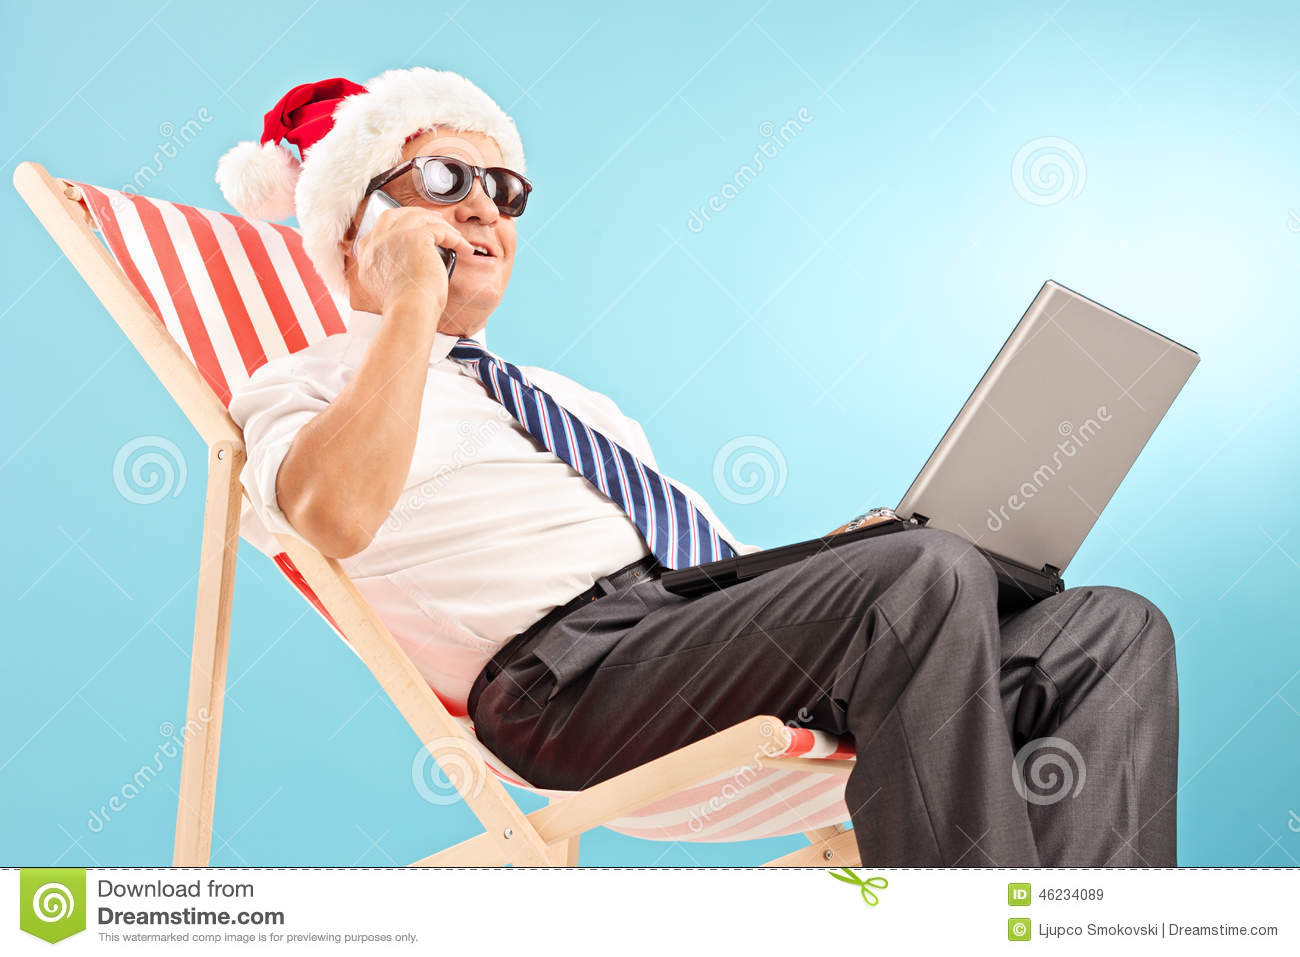phone: (360, 189, 458, 295)
talk: (351, 151, 519, 329)
